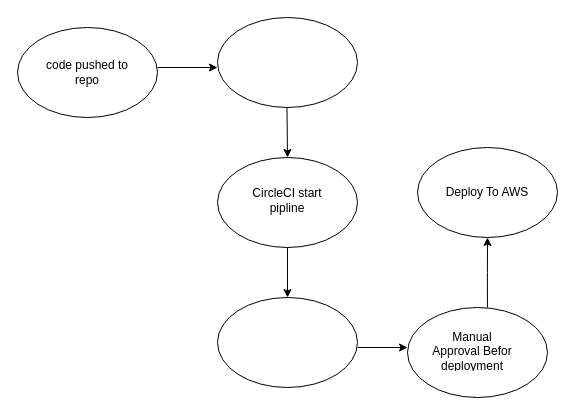
The diagram is 575 pixels wide and 415 high, and some of its shapes have lost their labels. The centre of each missing label's shape, as x and y in pixels:
"Committed to GitHub" goes at (x=287, y=62).
"Front End and BackEnd Build Completed Successfully" goes at (x=287, y=342).
